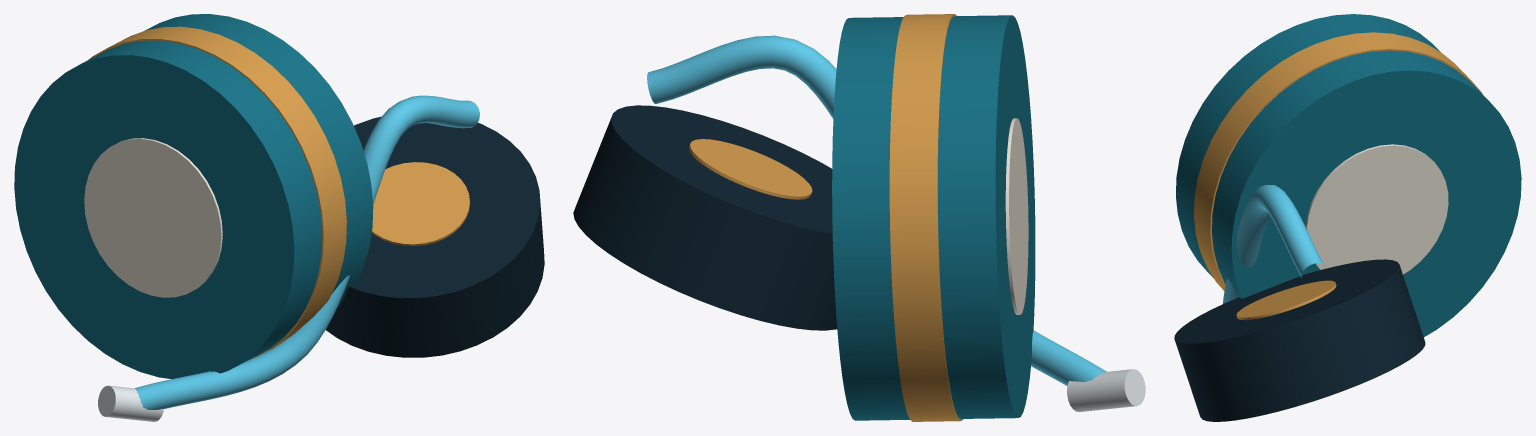
Rendered from narrow-fabrics.glb.
3 views of the same model, side by side, from view 1: azimuth 30°, elevation 25°; view 2: azimuth 150°, elevation 25°; view 3: azimuth 270°, elevation 25° (orthographic). The views are drawn at different scales.
Parts seen in each view (by area): view 1: narrow-fabrics; view 2: narrow-fabrics; view 3: narrow-fabrics.
Part boxes in pixels (bbox=[...]): narrow-fabrics: bbox=[14, 14, 544, 421]; narrow-fabrics: bbox=[573, 14, 1145, 421]; narrow-fabrics: bbox=[1174, 14, 1521, 421].
Bounding box in the file's own units: 2.77 × 1.97 × 1.99.
